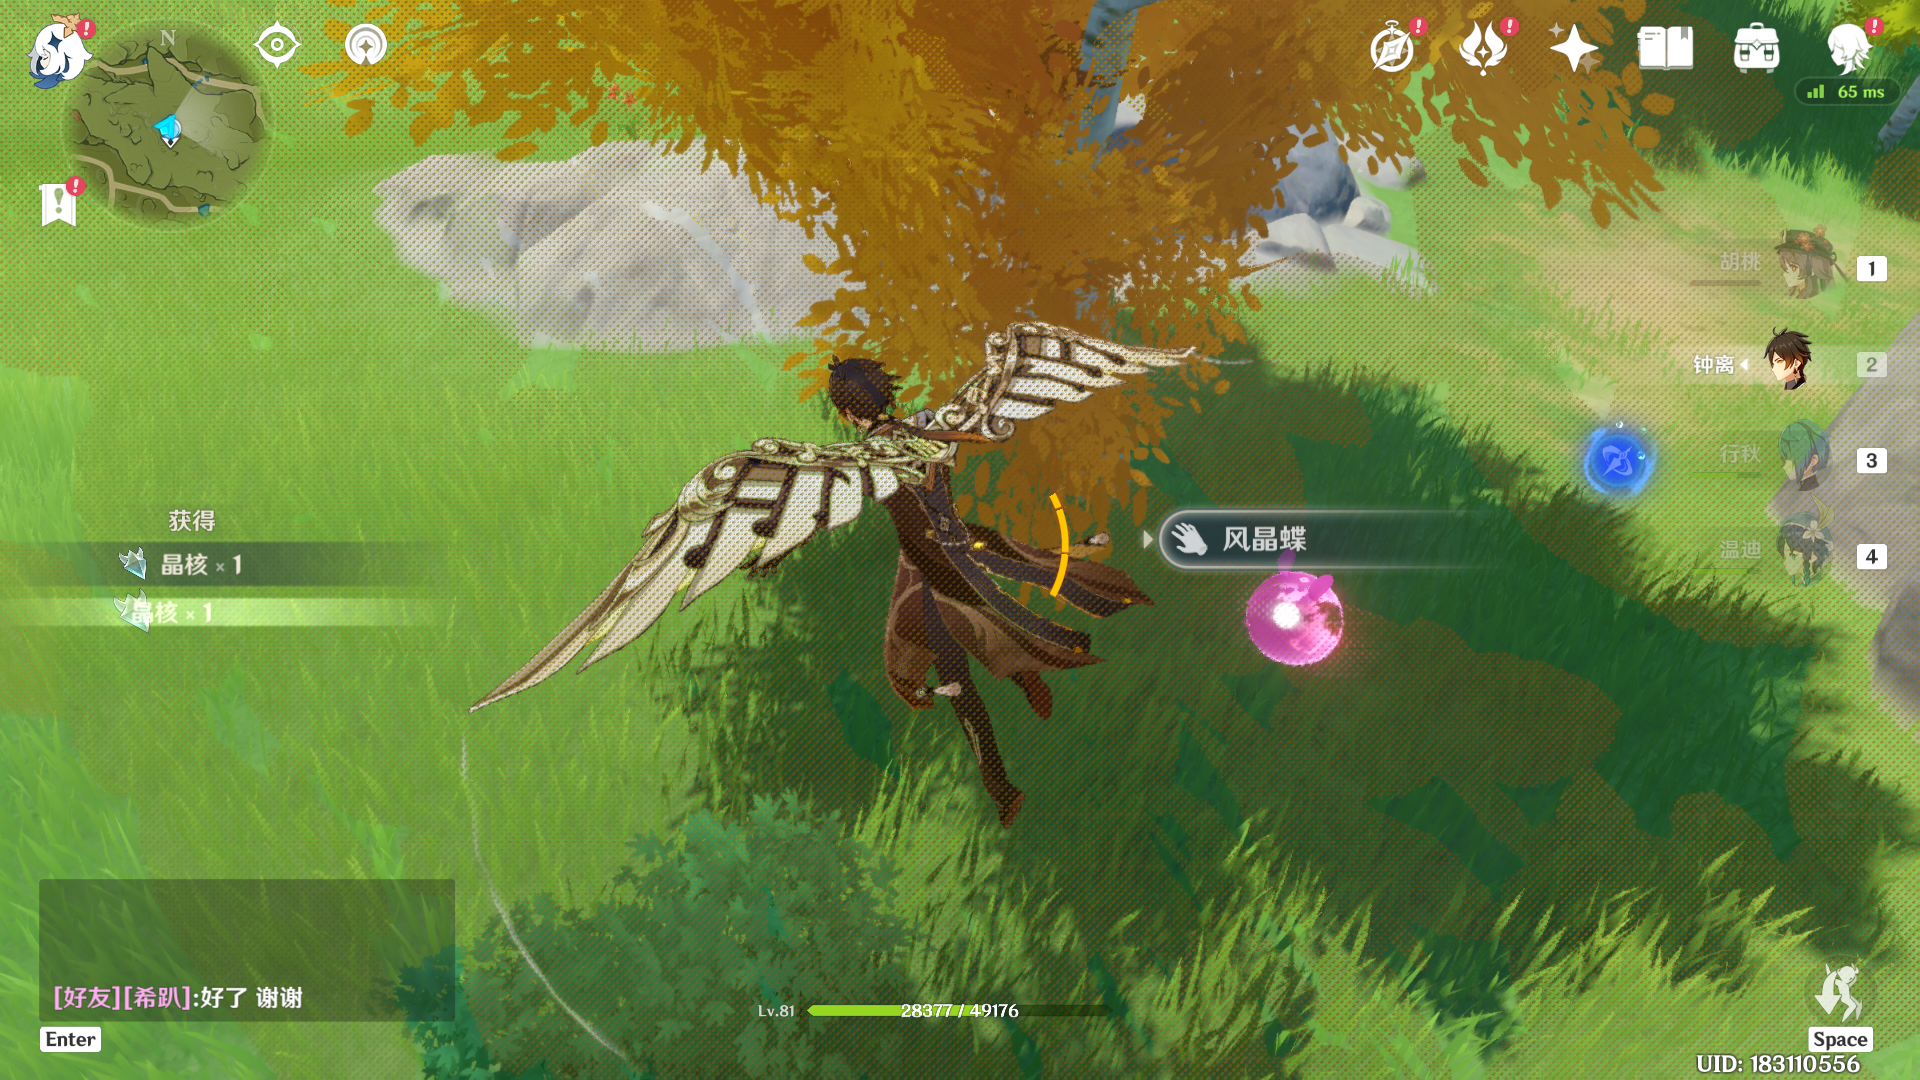character: (638, 284, 1187, 909)
